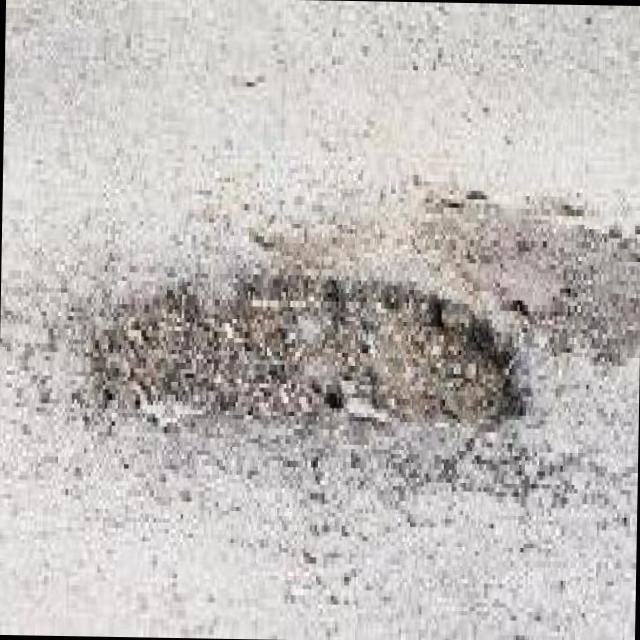Pothole: (91, 275, 520, 419)
